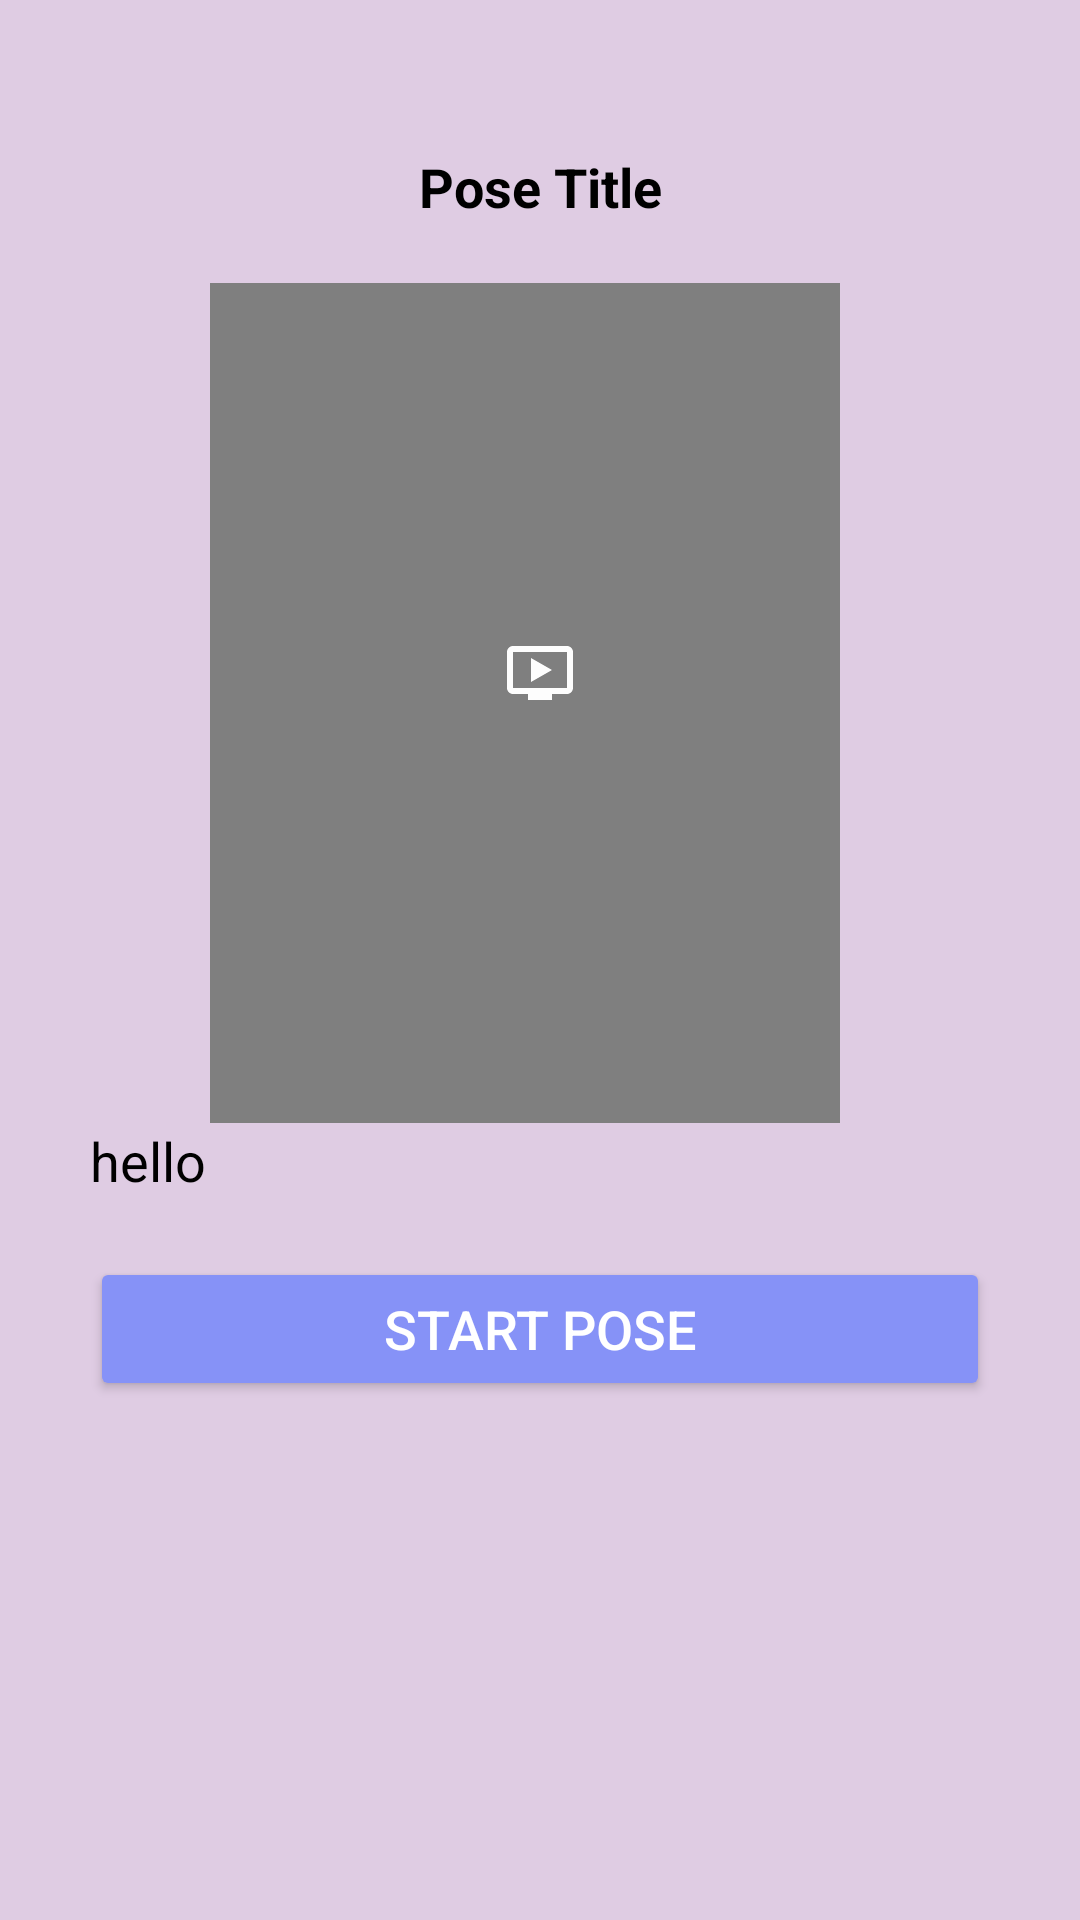

Named icons in this screenshot (1080*1920) and their centers, (x,y):
playvideo: (540,673)
